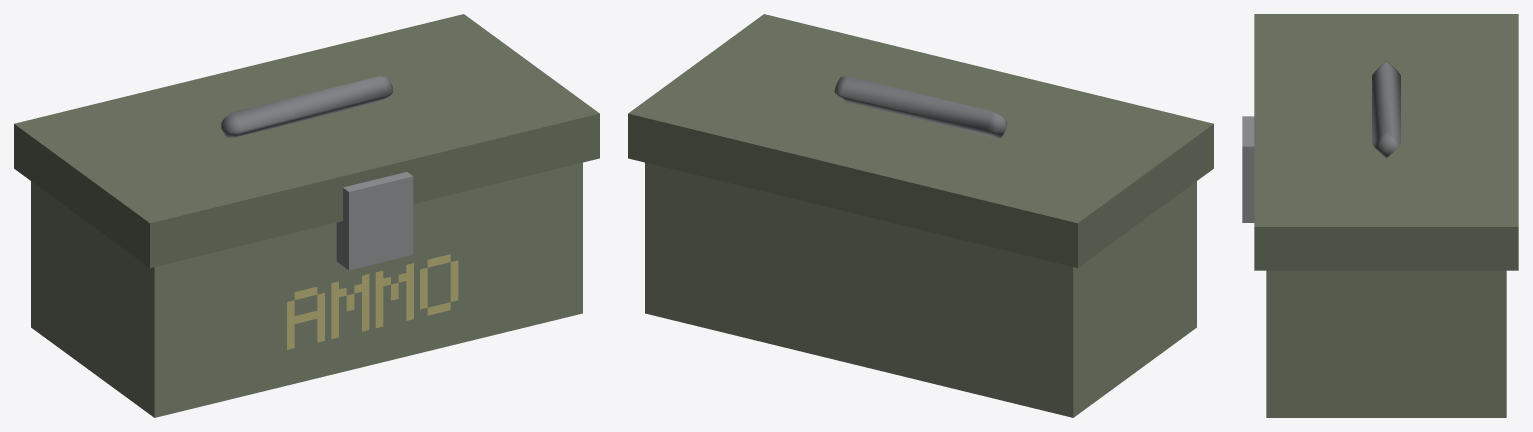
File: caixa_municao_pequena.glb
3 views of the same model, side by side, from view 1: azimuth 30°, elevation 25°; view 2: azimuth 150°, elevation 25°; view 3: azimuth 270°, elevation 25° (orthographic). The views are drawn at different scales.
Visible parts, largest first — view 1: caixa_municao_pequena; view 2: caixa_municao_pequena; view 3: caixa_municao_pequena.
Part boxes in pixels (x1,y1,x2,y2): caixa_municao_pequena: [14, 14, 599, 417]; caixa_municao_pequena: [628, 14, 1213, 417]; caixa_municao_pequena: [1242, 14, 1518, 417].
Size of the model in its own units: 0.42 by 0.202 by 0.23.
